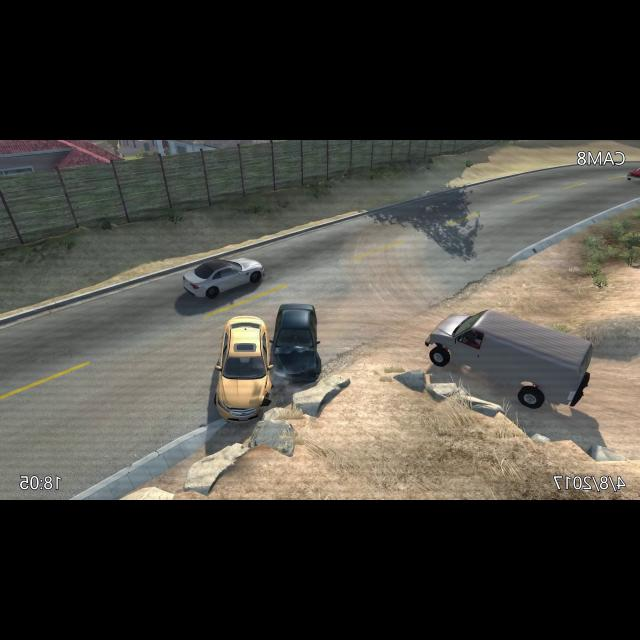accident: (207, 300, 324, 425)
